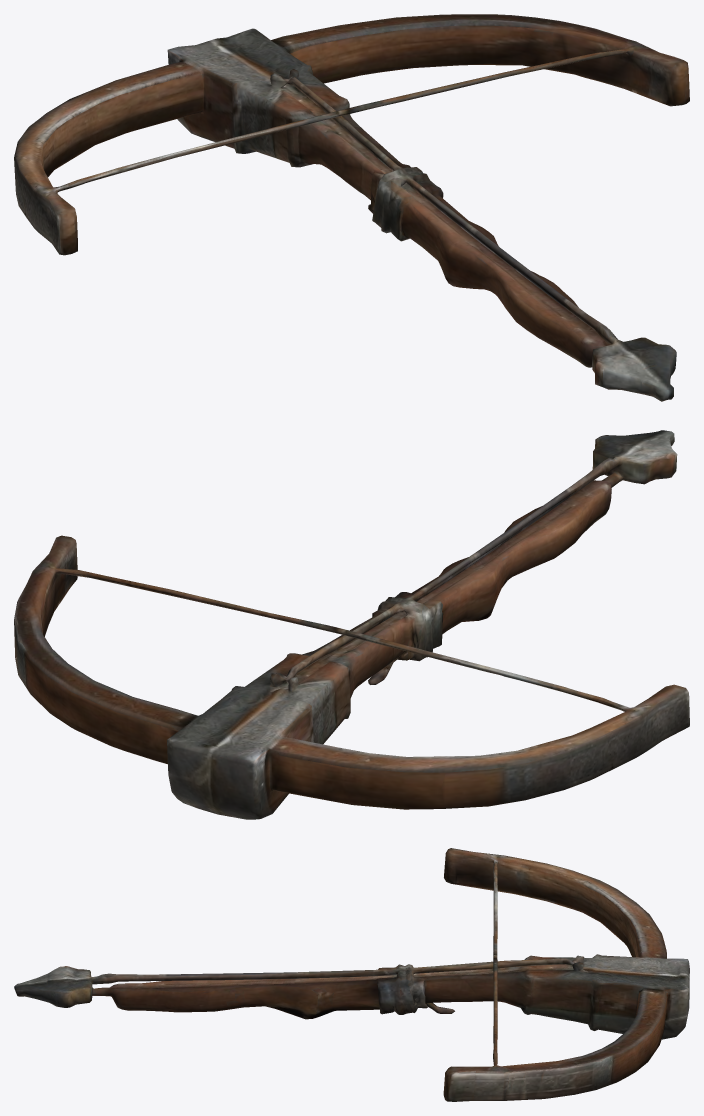
Rendered from 1118_bow.glb.
3 renders of one model, top to bottom at view 1: azimuth 30°, elevation 25°; view 2: azimuth 150°, elevation 25°; view 3: azimuth 270°, elevation 25°, orthographic. The views are drawn at different scales.
Visible parts, largest first — view 1: Model; view 2: Model; view 3: Model.
Part boxes in pixels (left/top/right/bottom): Model: left=14, top=14, right=689, bottom=401; Model: left=14, top=430, right=689, bottom=819; Model: left=14, top=848, right=689, bottom=1101.
Size of the model in its own units: 0.7921 by 0.1179 by 1.
1 material, 1 textured.
